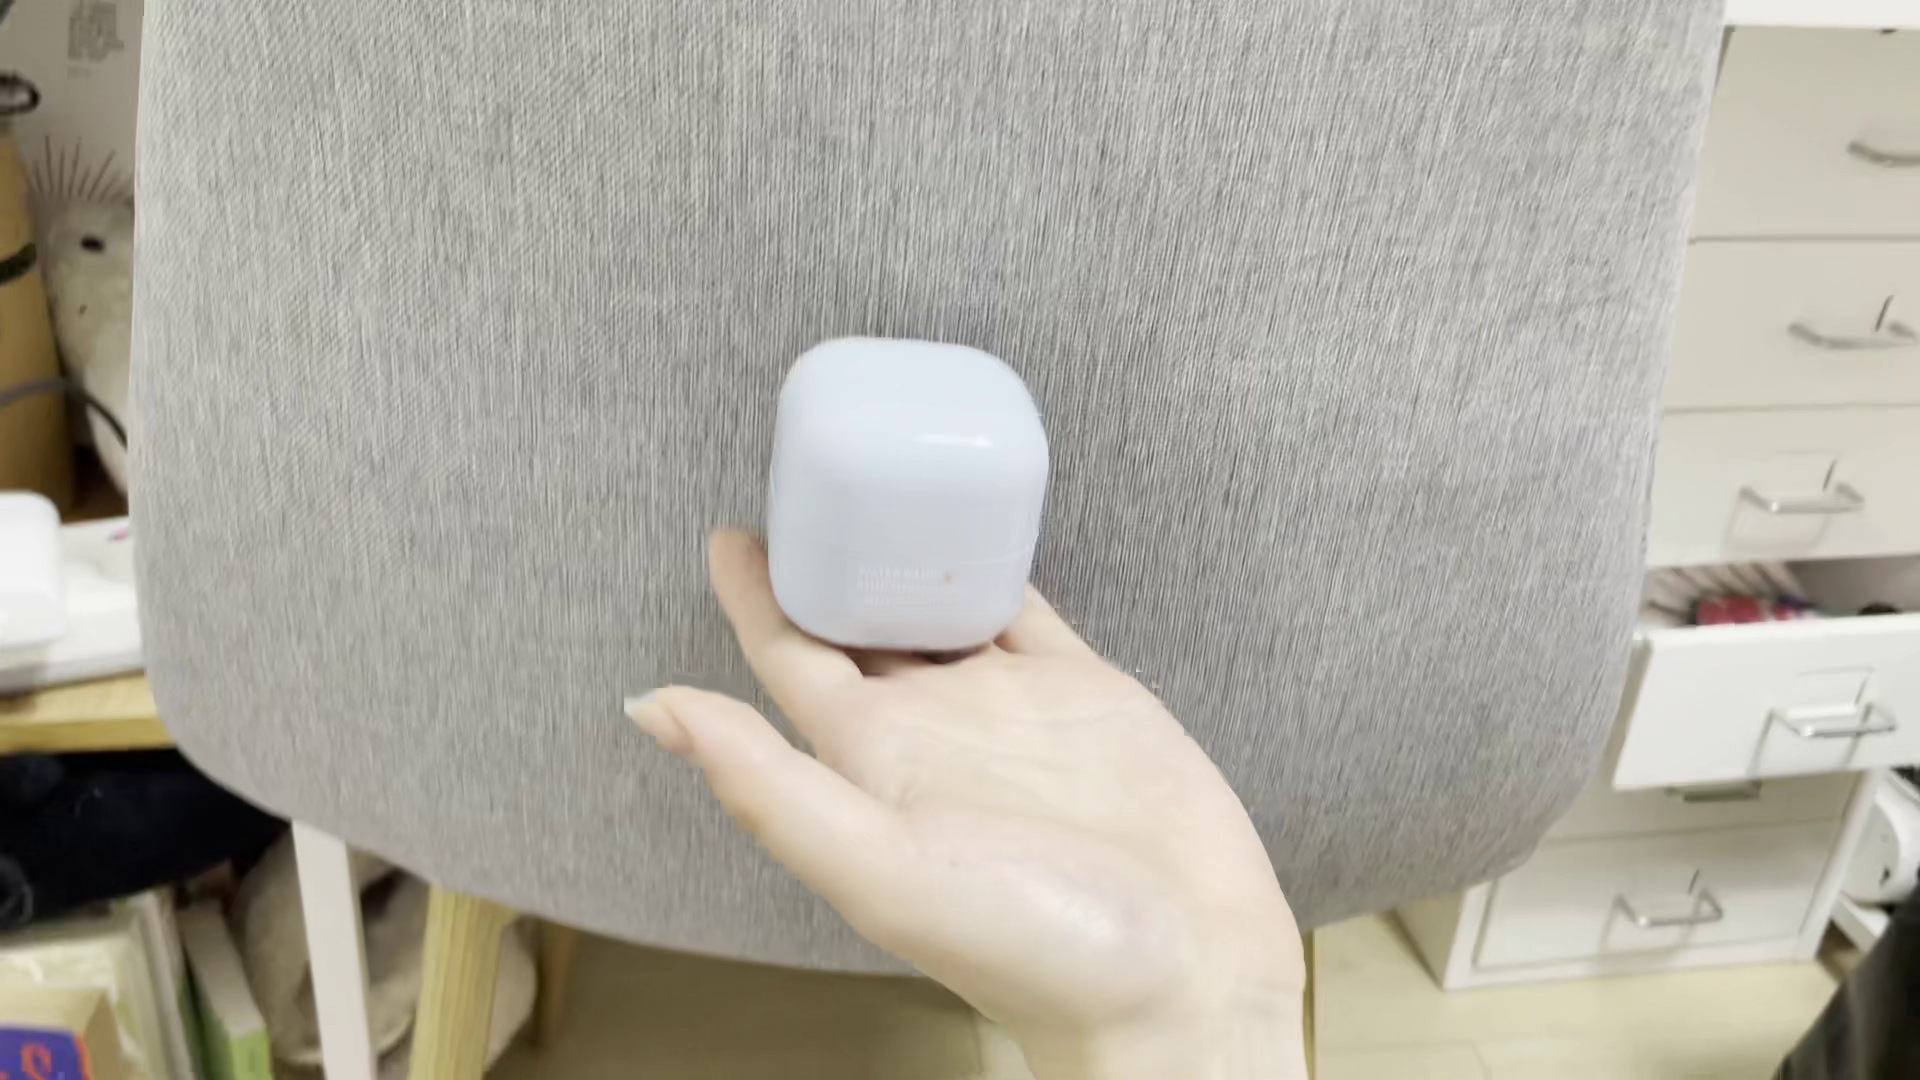cream: (764, 332, 1046, 647)
